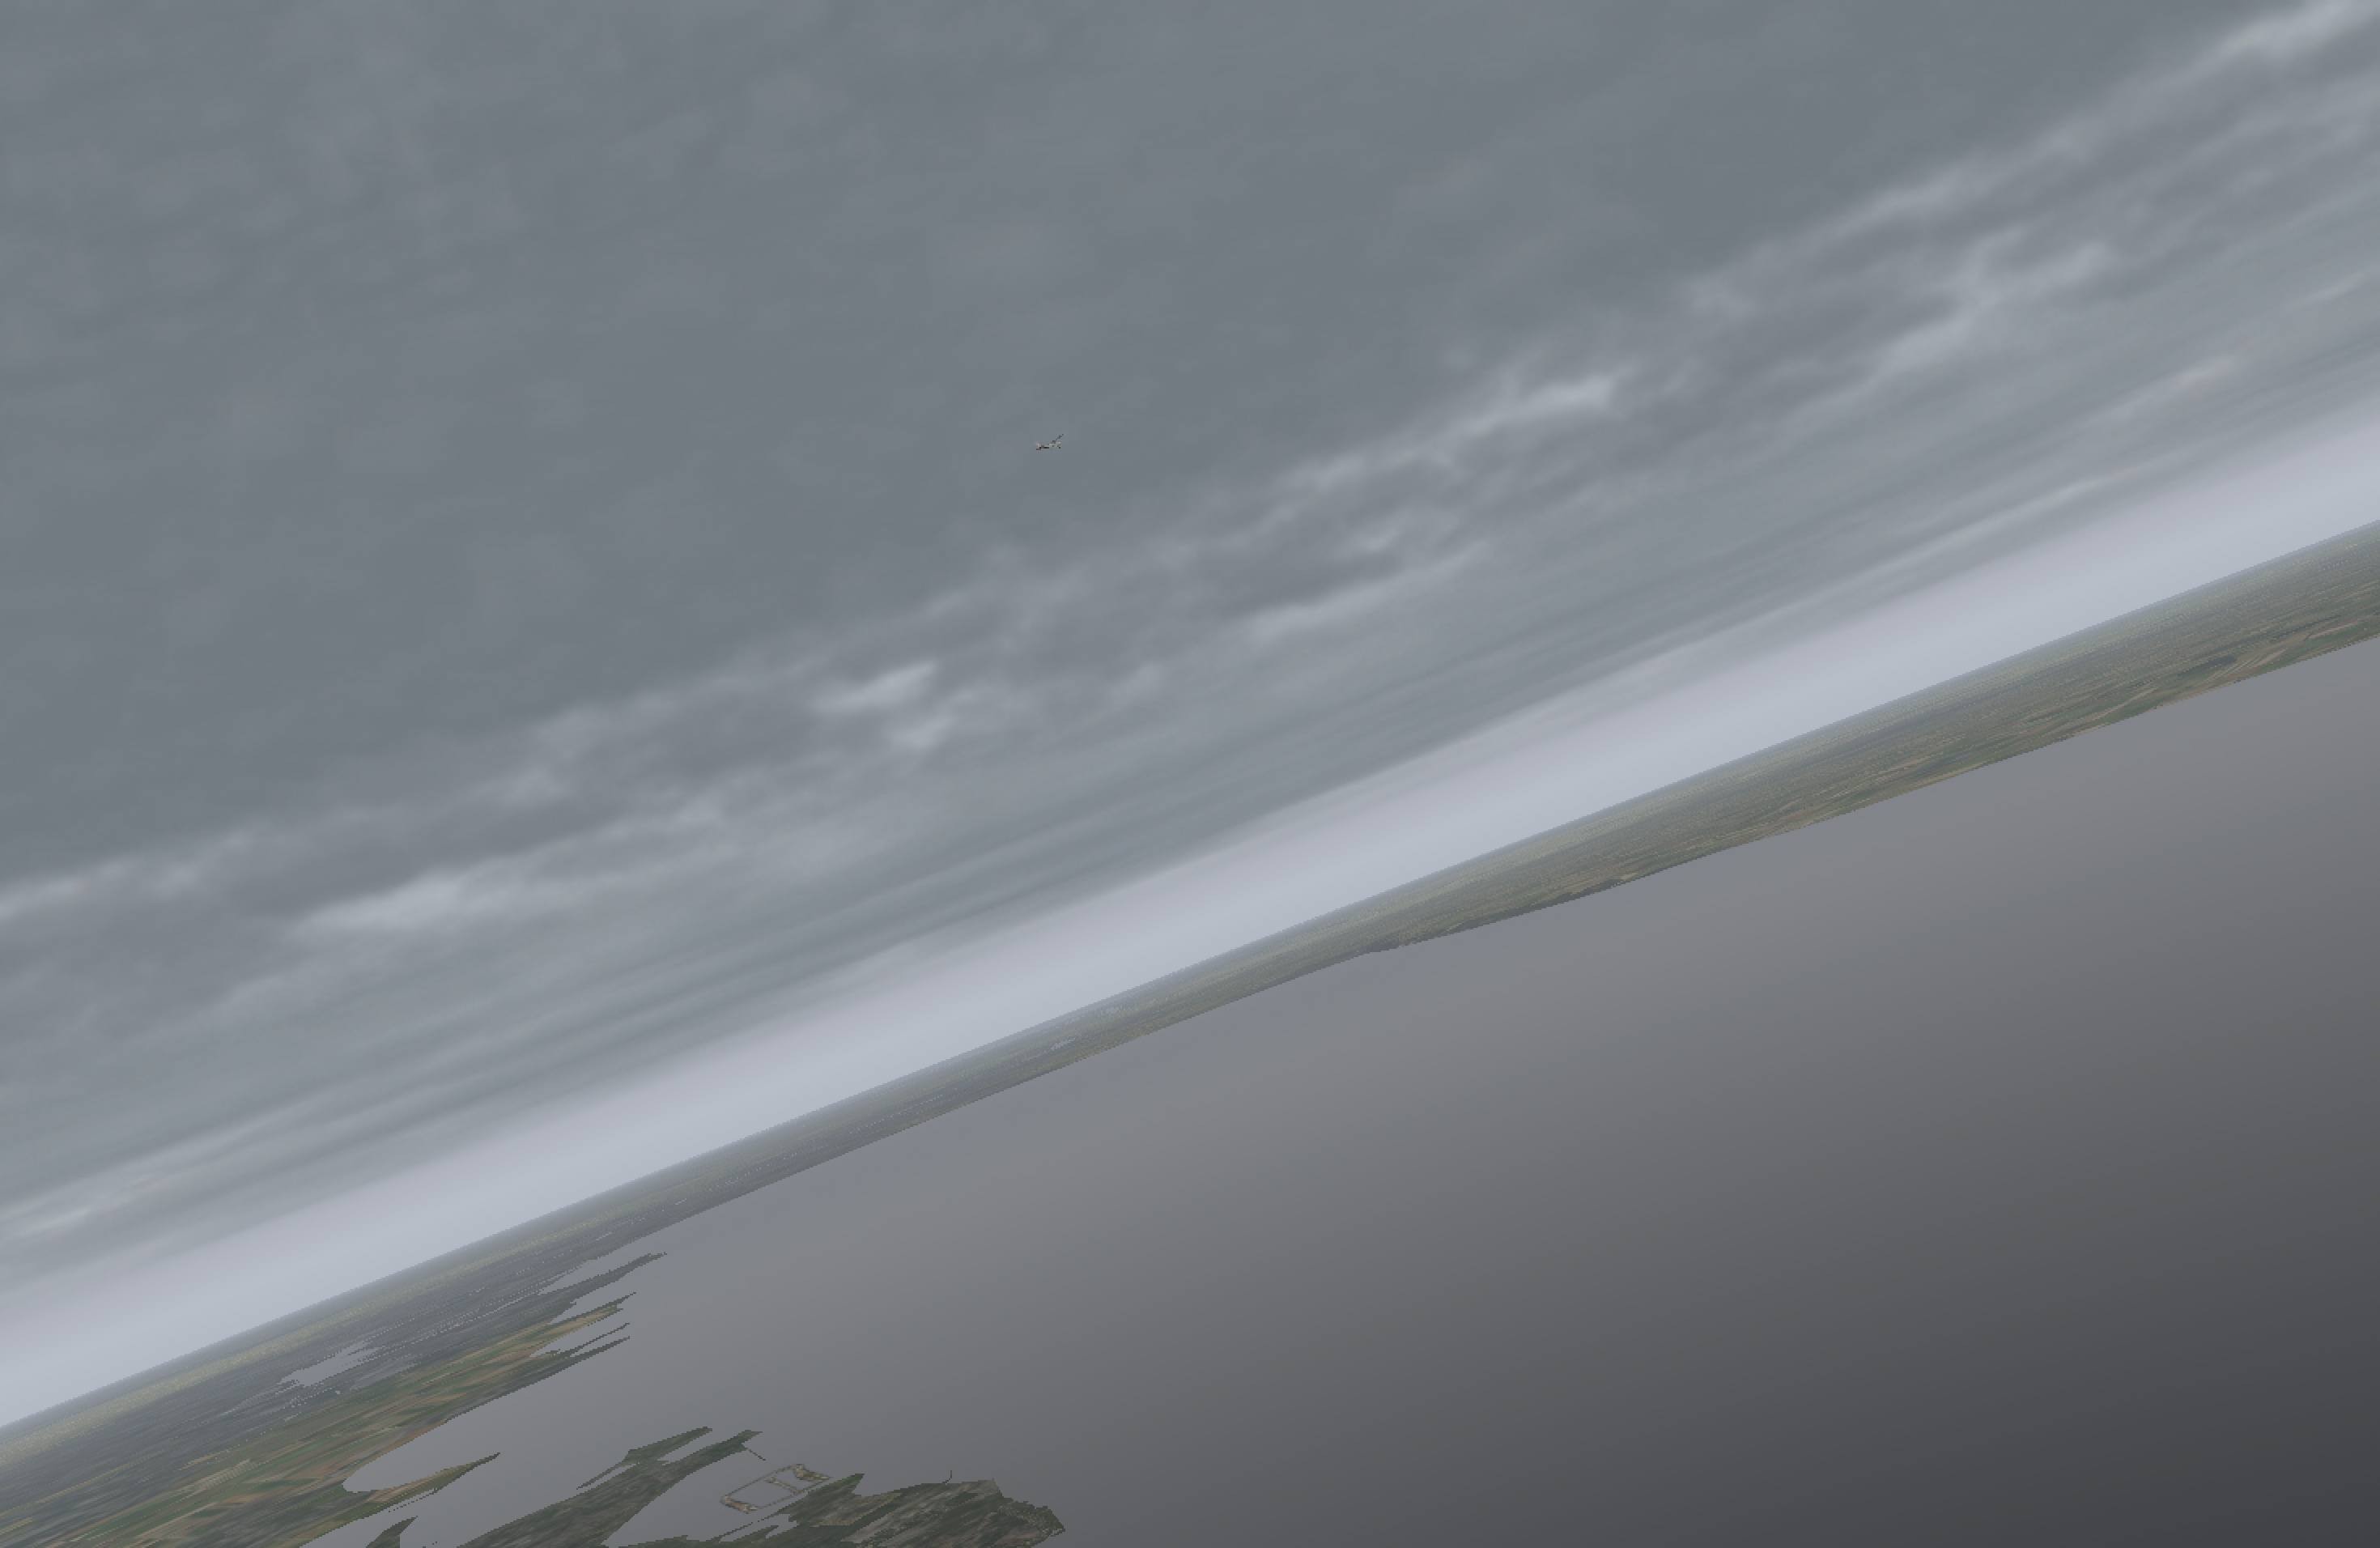aircraft: (1039, 439, 1069, 449)
